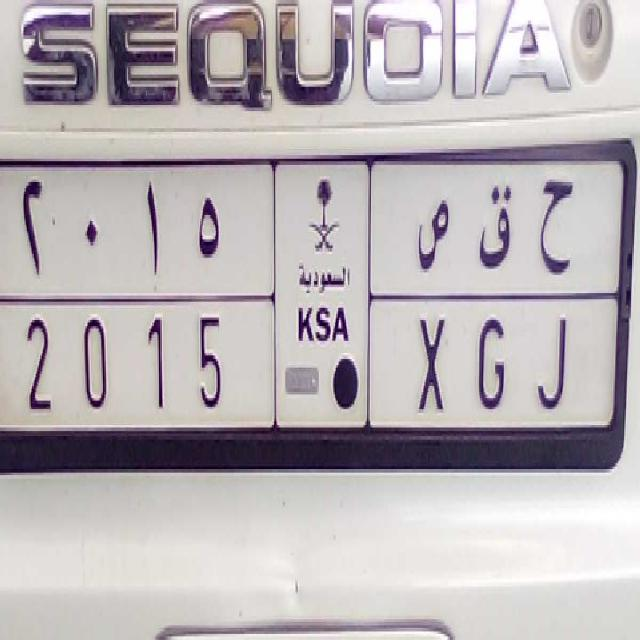license_plate: (9, 293, 601, 434)
